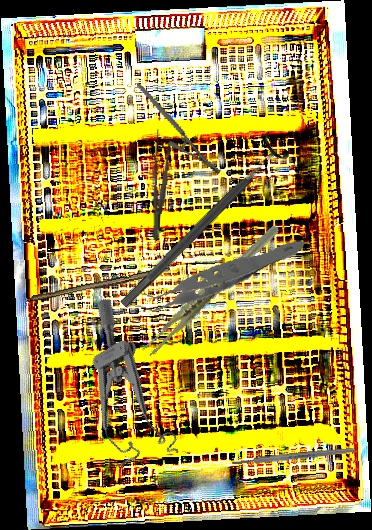Dressing Forceps: (146, 129, 173, 241)
Fixation Ring: (110, 130, 293, 318)
Needle Holder: (136, 66, 222, 190)
Scalpel Handle: (30, 264, 172, 306), (231, 446, 356, 467)
Speculum: (44, 296, 194, 481)
Tissue Forceps: (123, 222, 300, 360), (124, 211, 307, 337)
